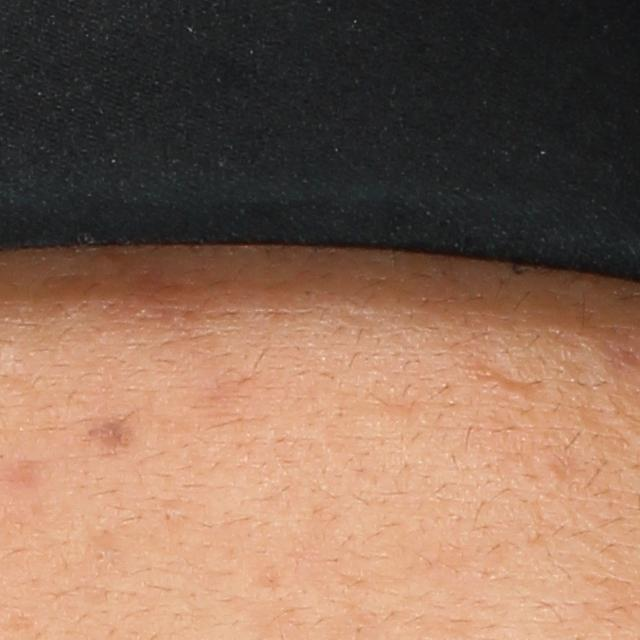comedo: (89, 543, 114, 567), (163, 508, 174, 521)
melasma: (81, 411, 143, 450)
